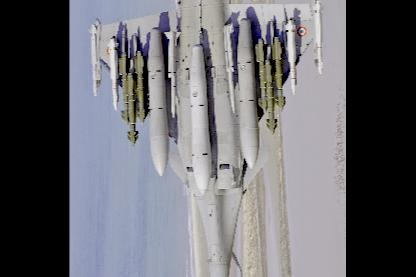RQ4: (87, 0, 324, 275)
